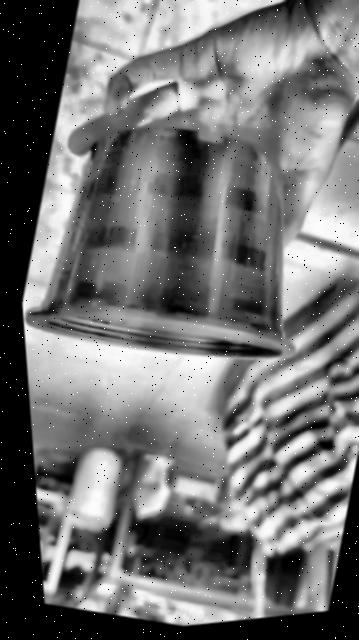pot: (25, 126, 292, 359)
